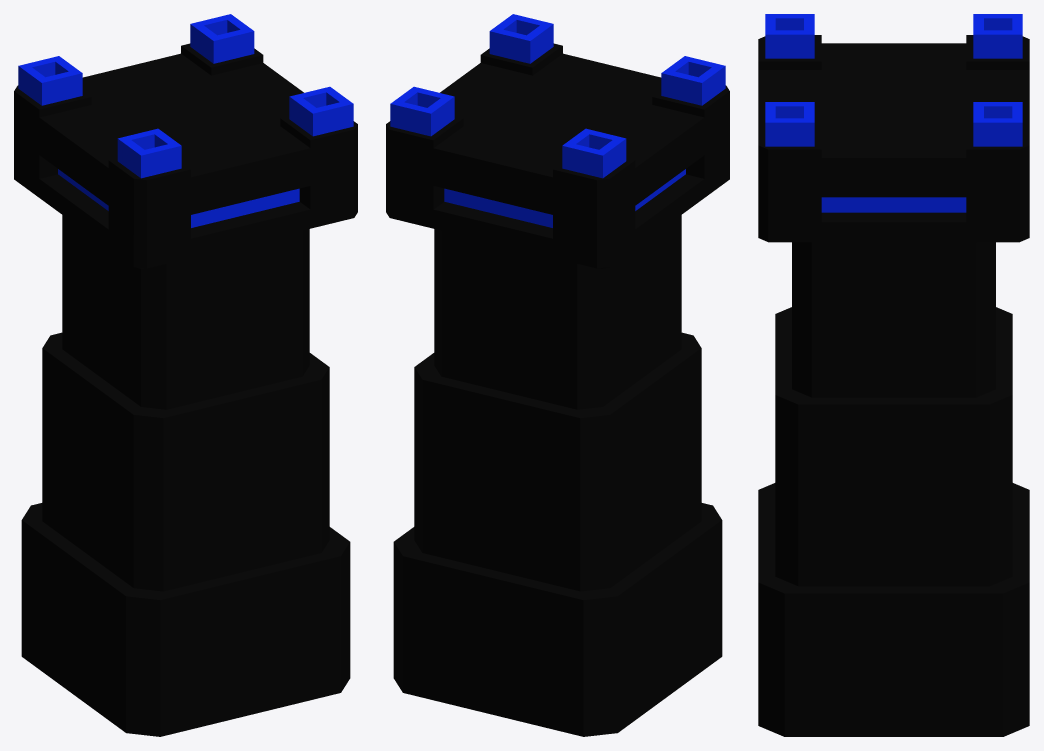
The model's file is Attachment_Big Wall.fbx.
3 renders of one model, left to right at view 1: azimuth 30°, elevation 25°; view 2: azimuth 150°, elevation 25°; view 3: azimuth 270°, elevation 25°, orthographic. The views are drawn at different scales.
Visible parts, largest first — view 1: Attachment_Big_Wall; view 2: Attachment_Big_Wall; view 3: Attachment_Big_Wall.
Boxes of the visible parts, <box> form: Attachment_Big_Wall: <box>14,14,357,736</box>; Attachment_Big_Wall: <box>386,14,729,736</box>; Attachment_Big_Wall: <box>758,14,1029,736</box>.
Size of the model in its own units: 0.9194 by 2.28 by 0.9194.
